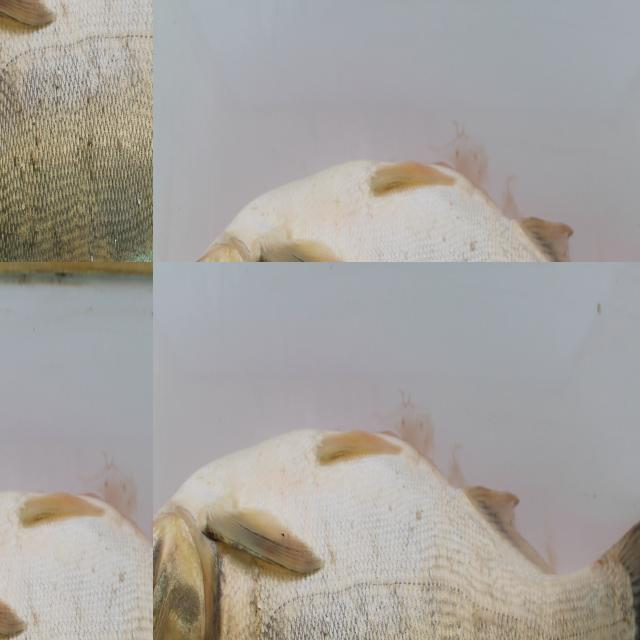fish: (153, 394, 640, 640), (0, 0, 153, 262)
